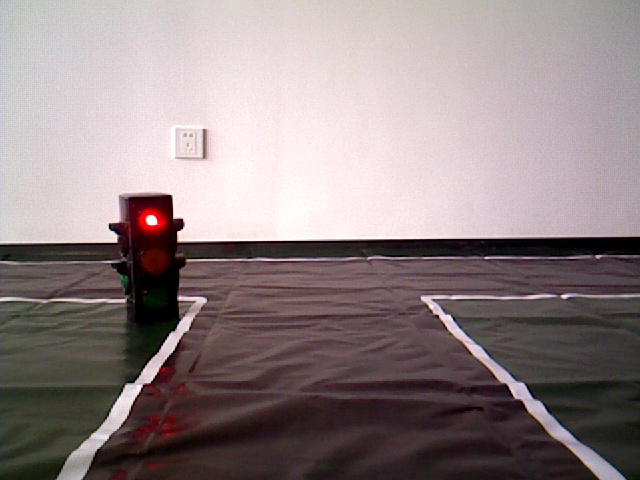red: (117, 197, 176, 319)
